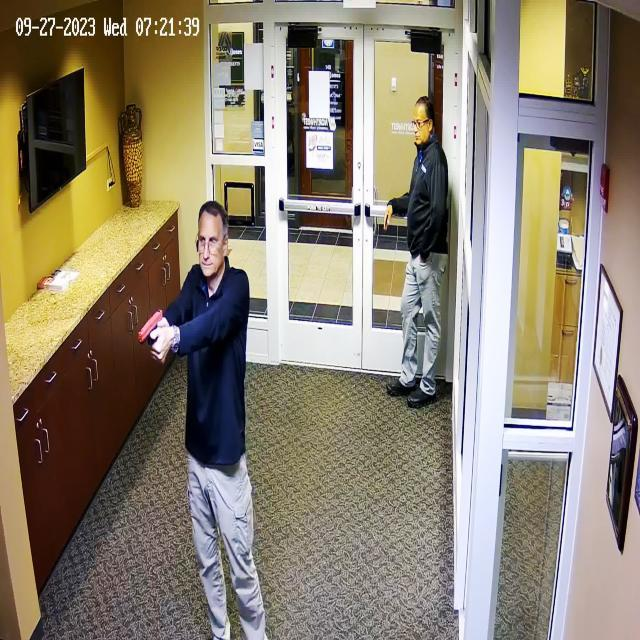Gun: (125, 298, 185, 361)
